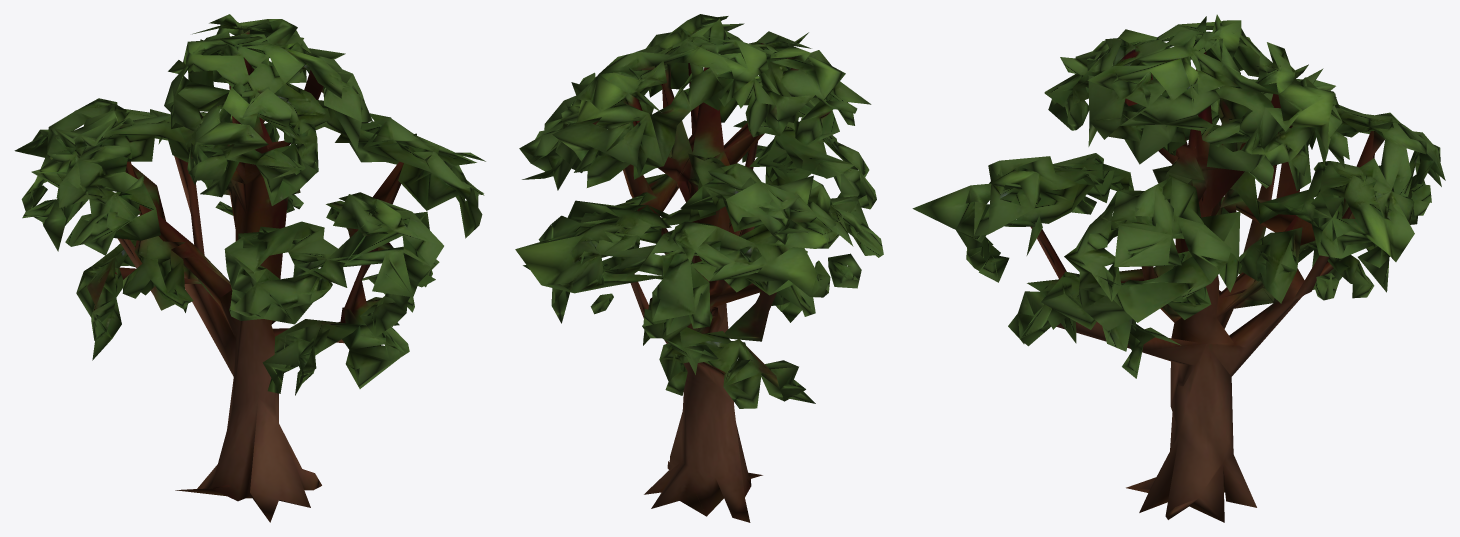
File: tree_elm.glb
The picture shows the model from 3 angles, left to right: view 1: azimuth 30°, elevation 25°; view 2: azimuth 150°, elevation 25°; view 3: azimuth 270°, elevation 25°; orthographic projection. The views are drawn at different scales.
Visible parts, largest first — view 1: tripo_node_e3a7d54c-fdf4-4f87-a9aa-f945edb3cbf9; view 2: tripo_node_e3a7d54c-fdf4-4f87-a9aa-f945edb3cbf9; view 3: tripo_node_e3a7d54c-fdf4-4f87-a9aa-f945edb3cbf9.
Boxes of the visible parts, x1,y1,x2,y2 form: tripo_node_e3a7d54c-fdf4-4f87-a9aa-f945edb3cbf9: (14, 14, 485, 522); tripo_node_e3a7d54c-fdf4-4f87-a9aa-f945edb3cbf9: (515, 14, 883, 522); tripo_node_e3a7d54c-fdf4-4f87-a9aa-f945edb3cbf9: (912, 14, 1445, 522).
Size of the model in its own units: 0.8644 by 0.9795 by 1.
1 material, 1 textured.
